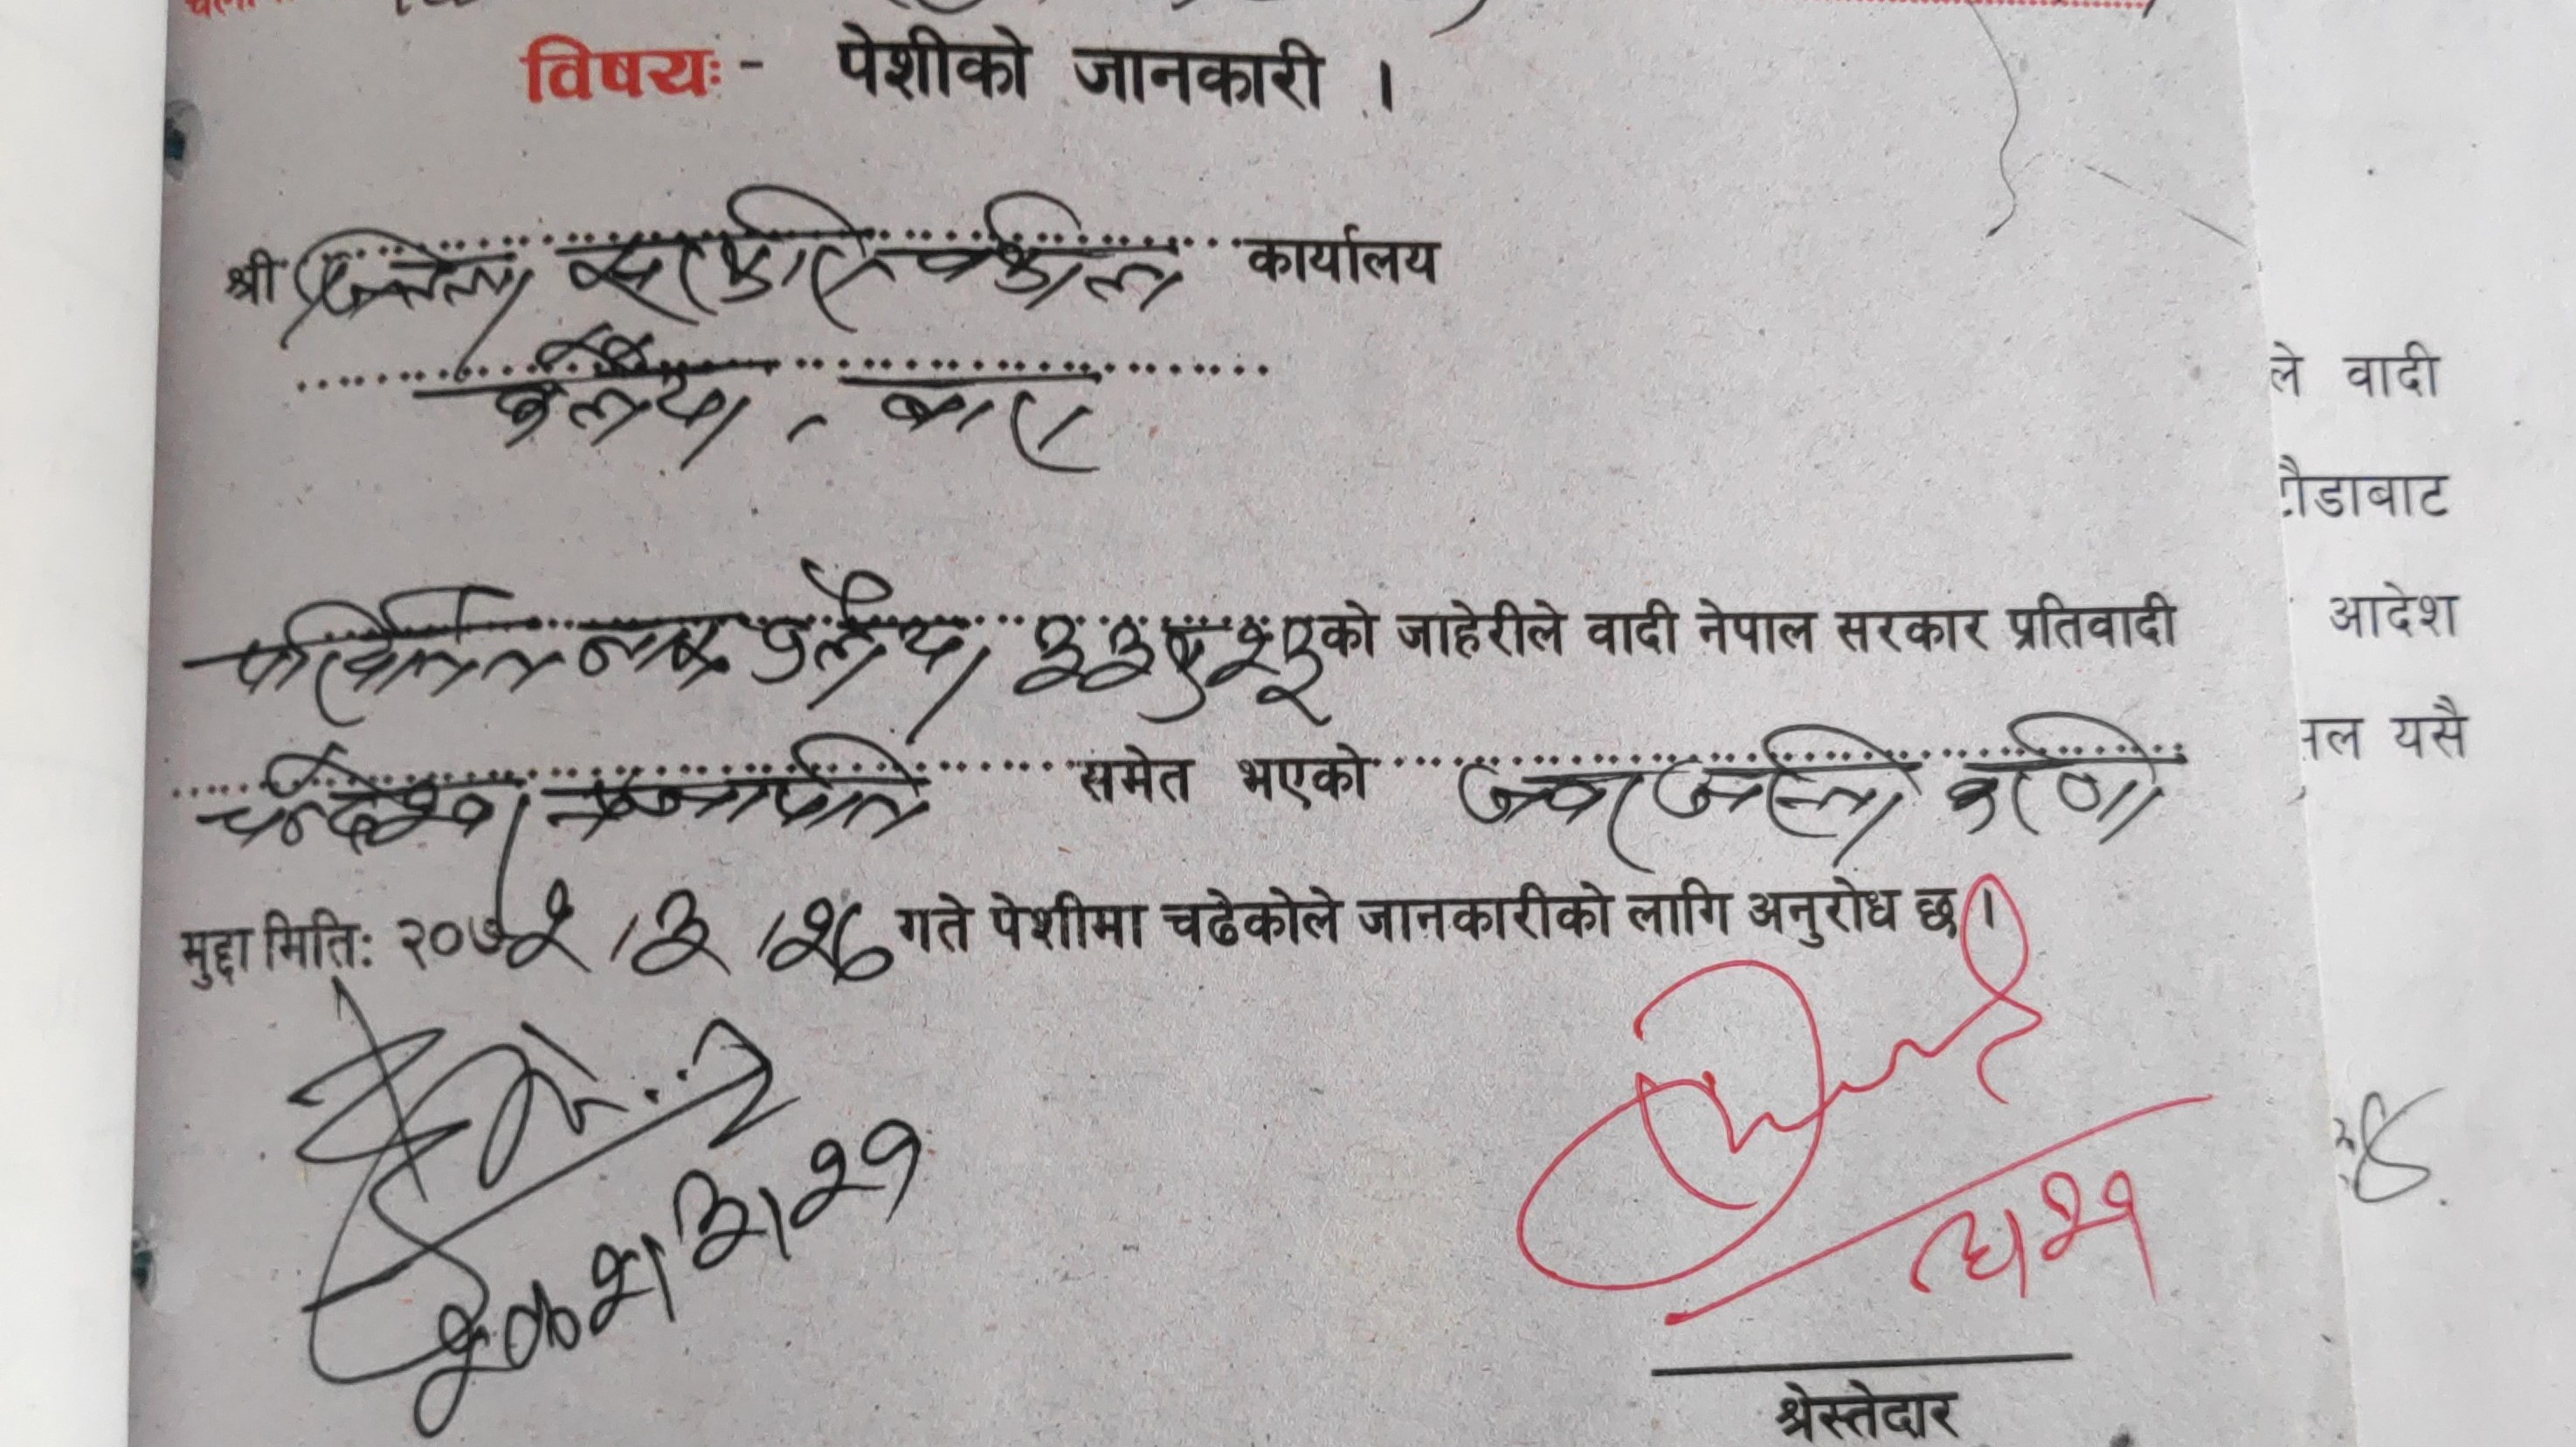text: (218, 577, 564, 725), (540, 723, 939, 849), (412, 1233, 642, 1445), (557, 182, 888, 318), (203, 741, 529, 870), (458, 334, 759, 467), (747, 561, 998, 716), (892, 189, 1192, 318), (1652, 709, 1916, 856), (1005, 609, 1322, 720), (1934, 701, 2178, 842), (858, 354, 1102, 494), (280, 225, 536, 338), (1451, 748, 1649, 874), (564, 593, 752, 708), (787, 1107, 939, 1231), (665, 1169, 763, 1282)
